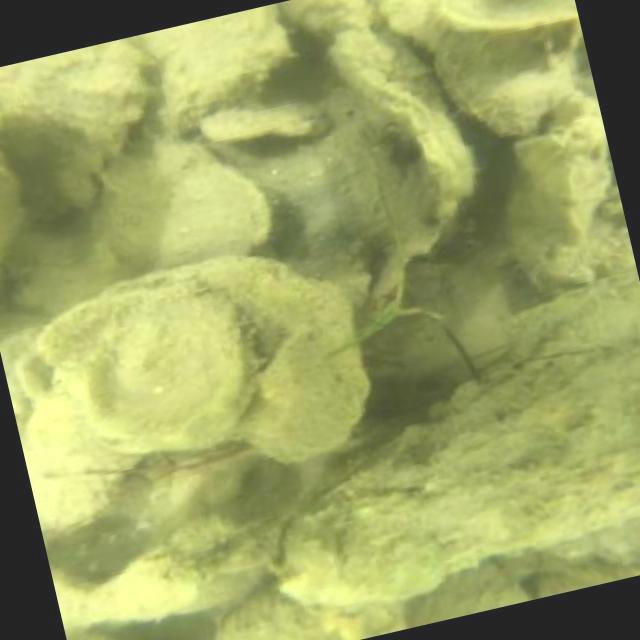Oyster-Closed: (279, 350, 640, 614), (105, 254, 368, 465), (18, 275, 262, 451), (329, 25, 472, 210), (0, 50, 151, 208), (159, 14, 283, 134), (156, 143, 267, 266), (362, 310, 464, 409), (209, 590, 349, 640), (288, 0, 372, 38), (0, 148, 19, 276)
